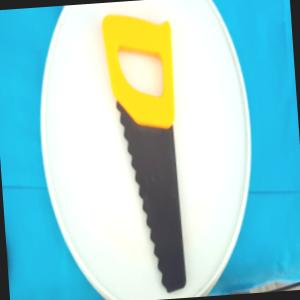serrote: (100, 8, 190, 298)
